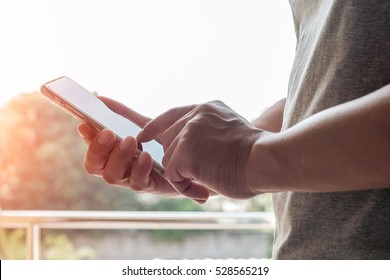Cell Phone: (41, 76, 181, 176)
